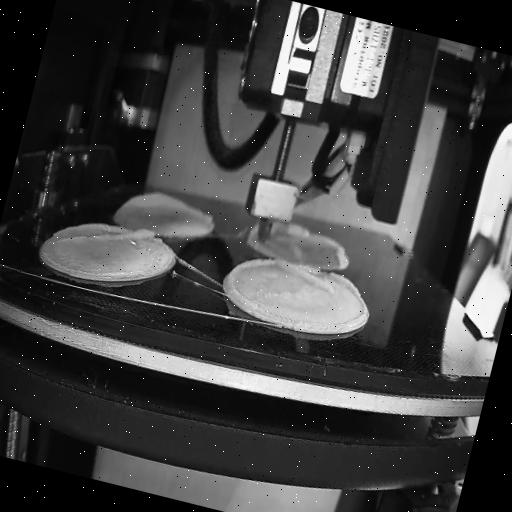over_extrusion: (55, 206, 160, 268), (271, 256, 364, 300), (126, 184, 218, 228), (224, 251, 272, 309), (274, 218, 316, 242)
